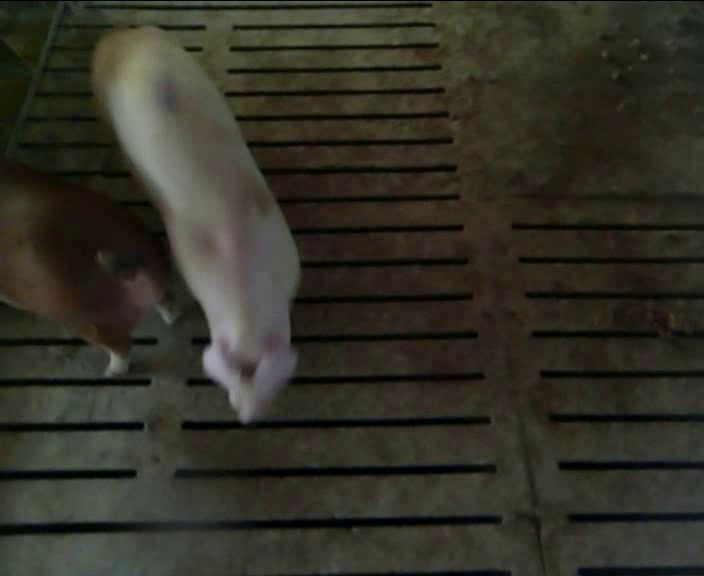pig: (96, 28, 299, 421)
